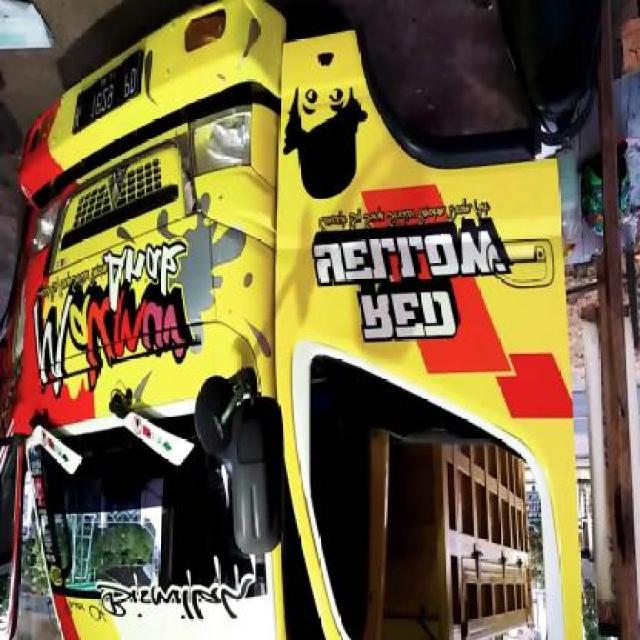truck: (1, 3, 582, 640)
